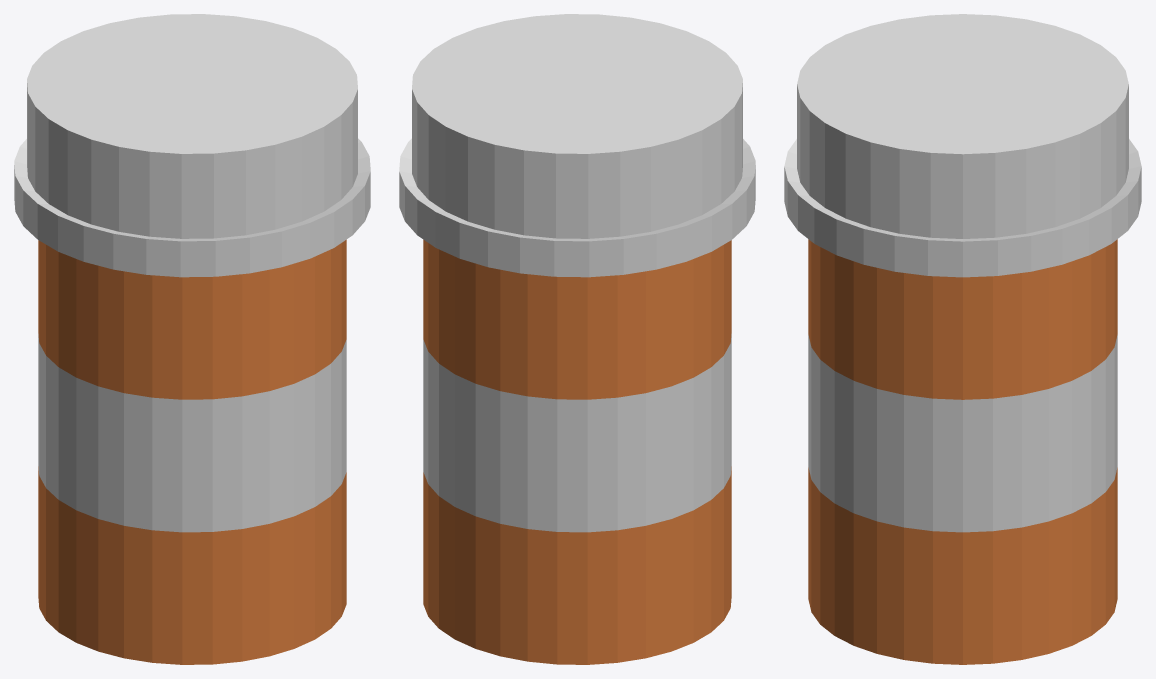
File: remedio.fbx
The picture shows the model from 3 angles, left to right: view 1: azimuth 30°, elevation 25°; view 2: azimuth 150°, elevation 25°; view 3: azimuth 270°, elevation 25°; orthographic projection.
Parts seen in each view (by area): view 1: remedio.011; view 2: remedio.011; view 3: remedio.011.
Boxes of the visible parts, x1,y1,x2,y2 form: remedio.011: (14,14,370,664); remedio.011: (399,14,755,664); remedio.011: (784,14,1141,664).
Size of the model in its own units: 5.26 by 8.37 by 5.26.
